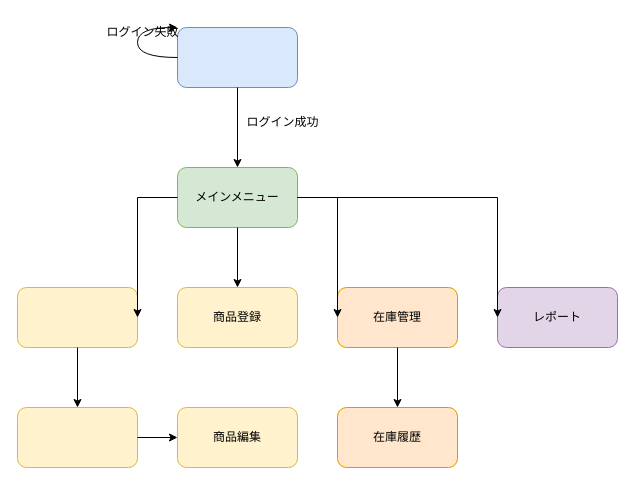
Some shapes in this 635 by 485 pixel diagram are drawn without their labels. The shapes that lost their labels are listed below. From the top down, each one's box as (x1, y1, x2, y2) in pixels, then its label:
(176, 26, 298, 88): ログイン画面
(16, 286, 138, 348): 商品一覧
(16, 406, 138, 468): 商品詳細
